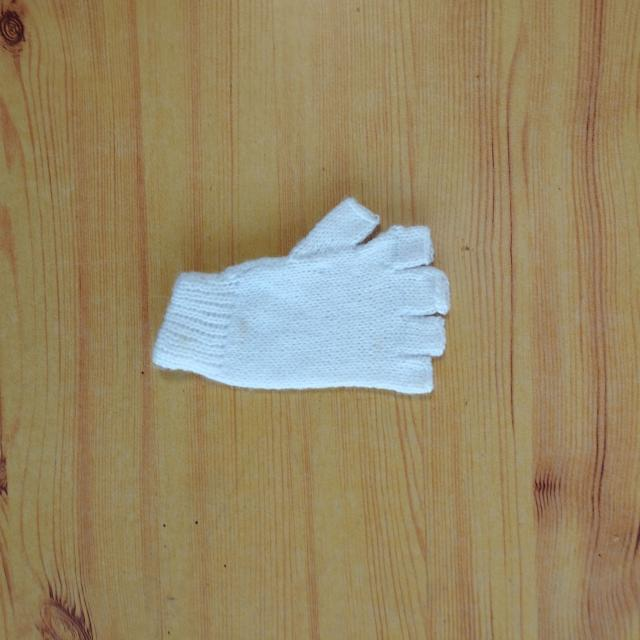Guante: (151, 196, 452, 396)
